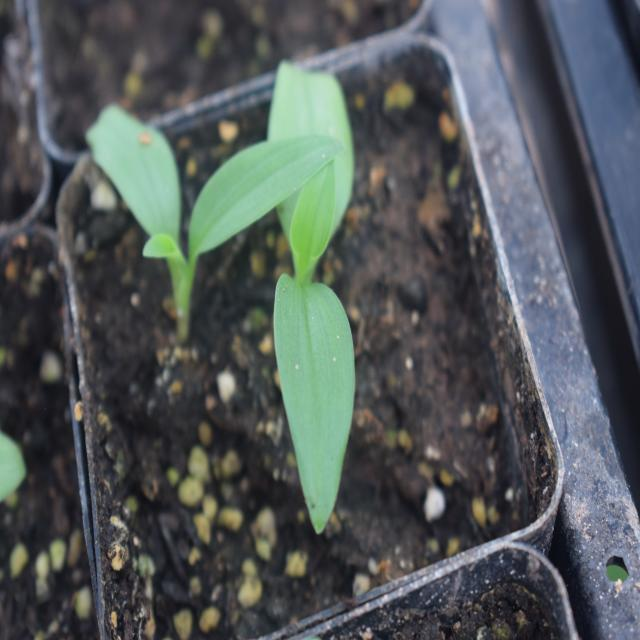Common Dayflower: (236, 65, 389, 522), (82, 90, 242, 320)
